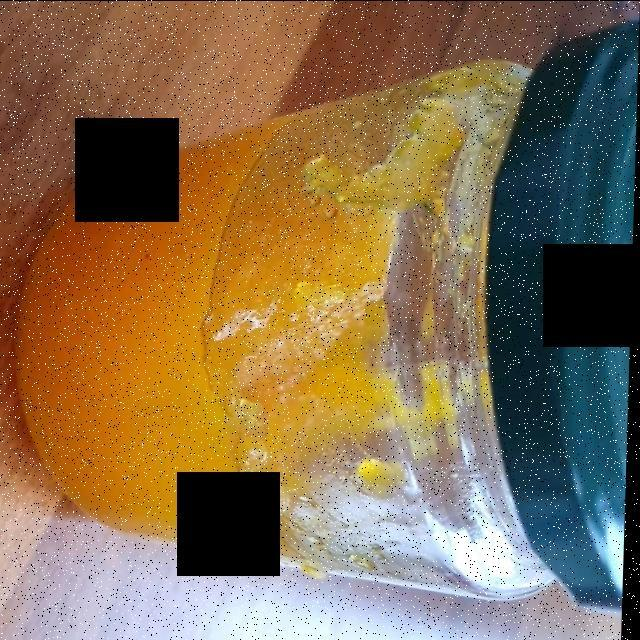jam: (30, 102, 390, 567)
